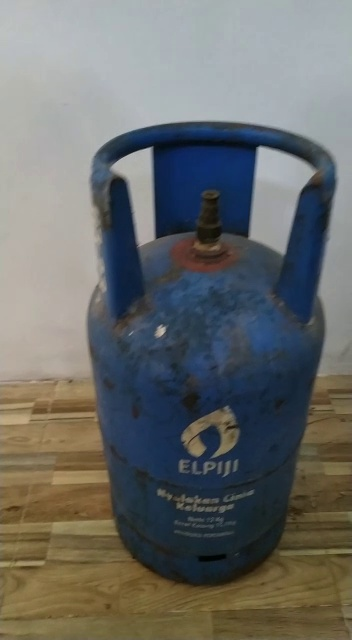blue_gas: (87, 120, 340, 586)
